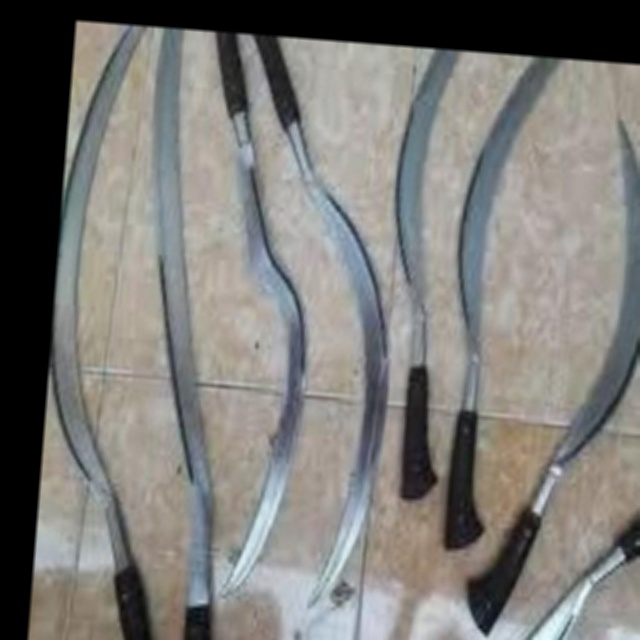Sharp-Object: (197, 34, 413, 640), (27, 20, 209, 640), (449, 104, 640, 640), (277, 426, 640, 640)
